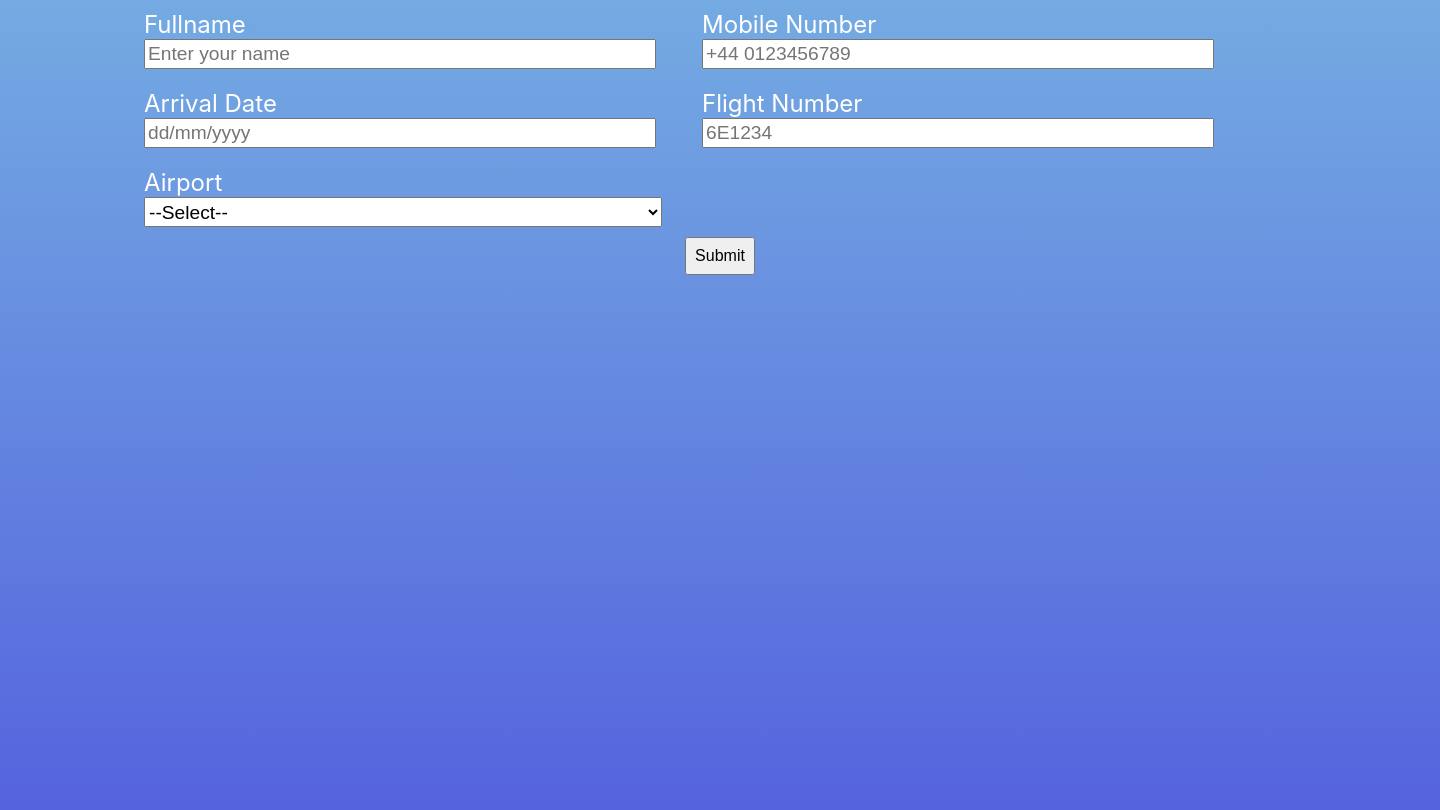
should show error for missing required fields
Click the button "Submit": (720, 256) [685,237,755,275]
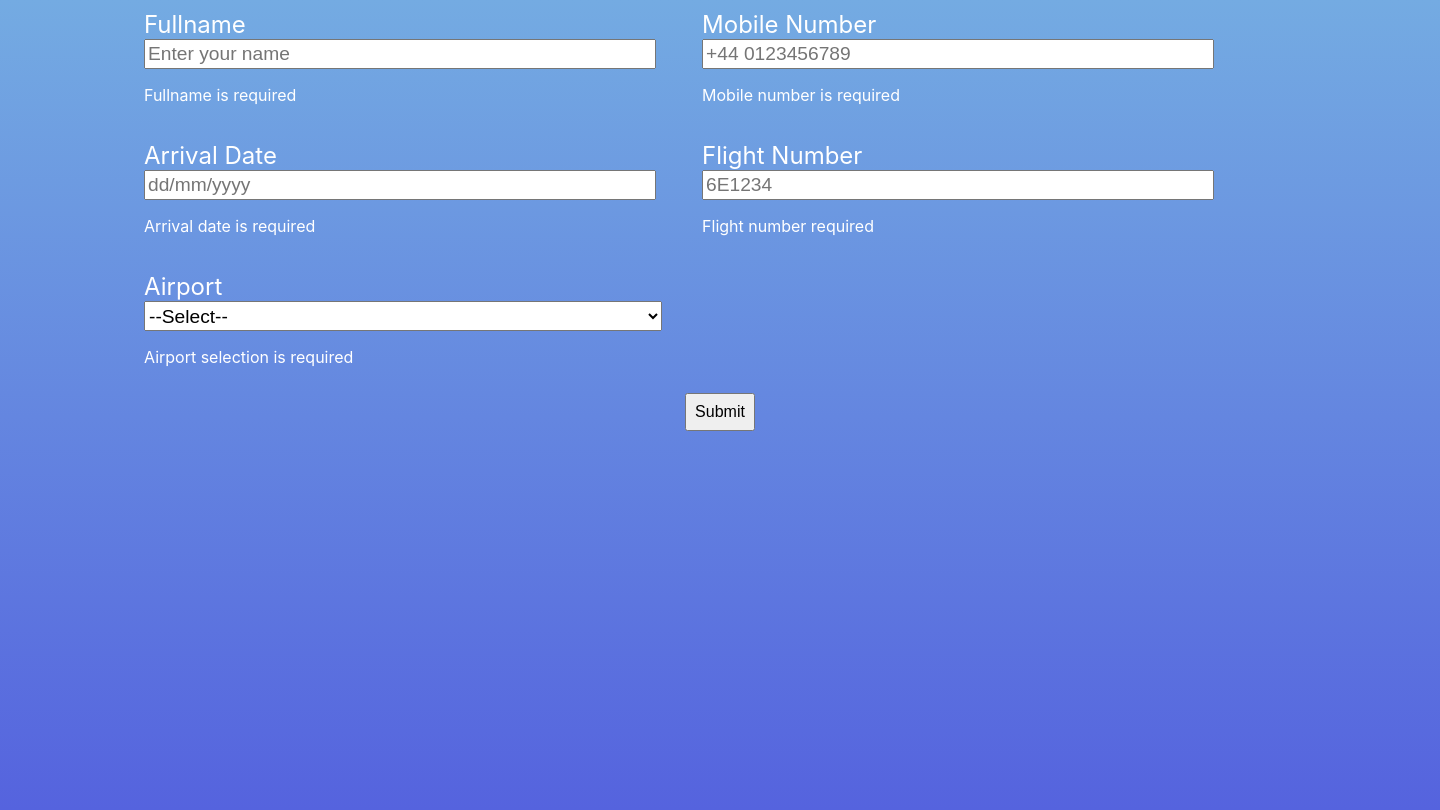
Check: the text "Fullname is required" is shown, box [144,85,296,105]
